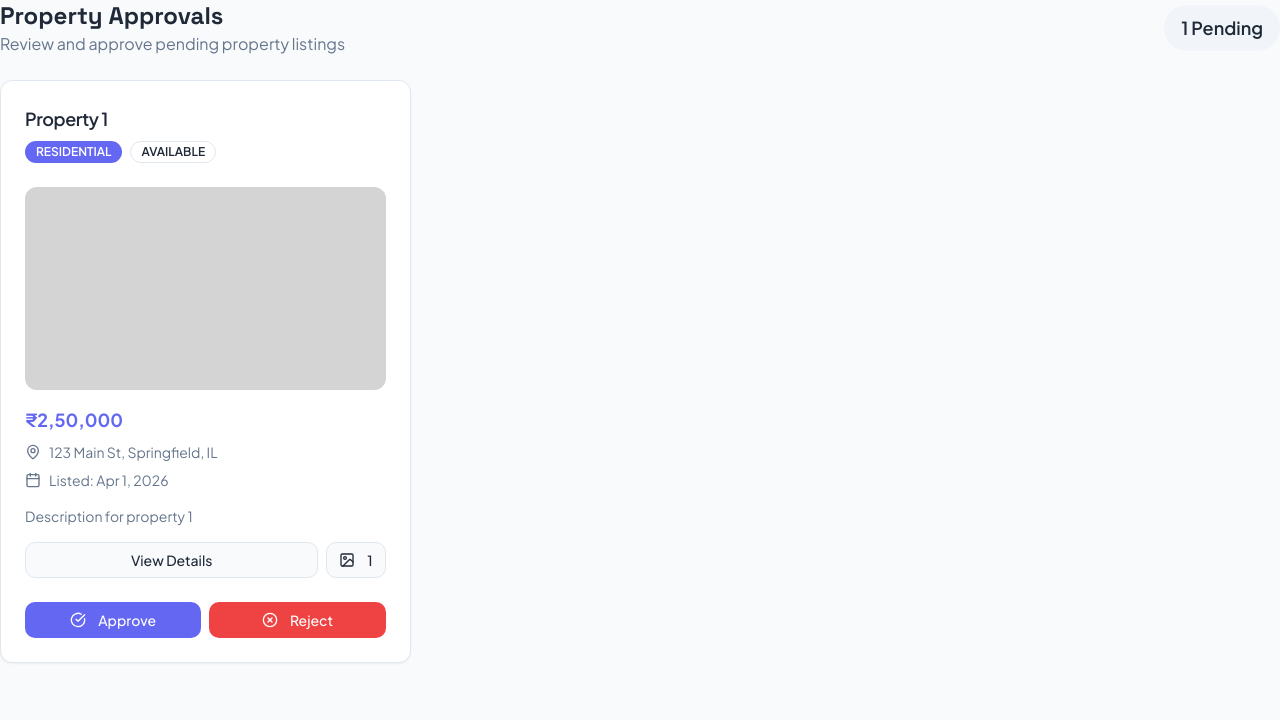
Test: PropertyApprovalList › should require rejection reason before rejecting property
The width and height of the screenshot is (1280, 720).
Check: the text "Property 1" is shown, box [25, 107, 108, 130]
Note: Click reject button
Step 1. Click the button "Reject" → x=297, y=620, box [209, 602, 386, 638]
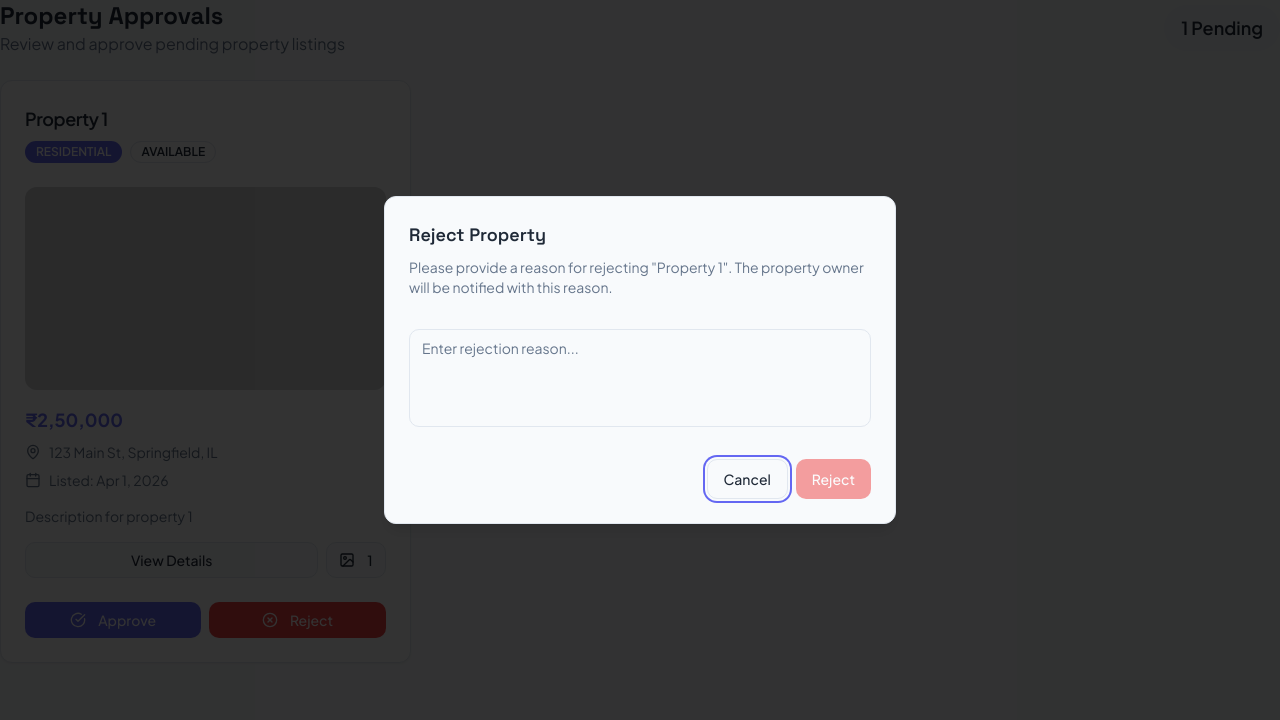
Check: the text box with placeholder "Enter rejection reason..." is shown, box [409, 329, 871, 427]
Check: the button "Reject" is disabled, box [796, 459, 871, 499]
